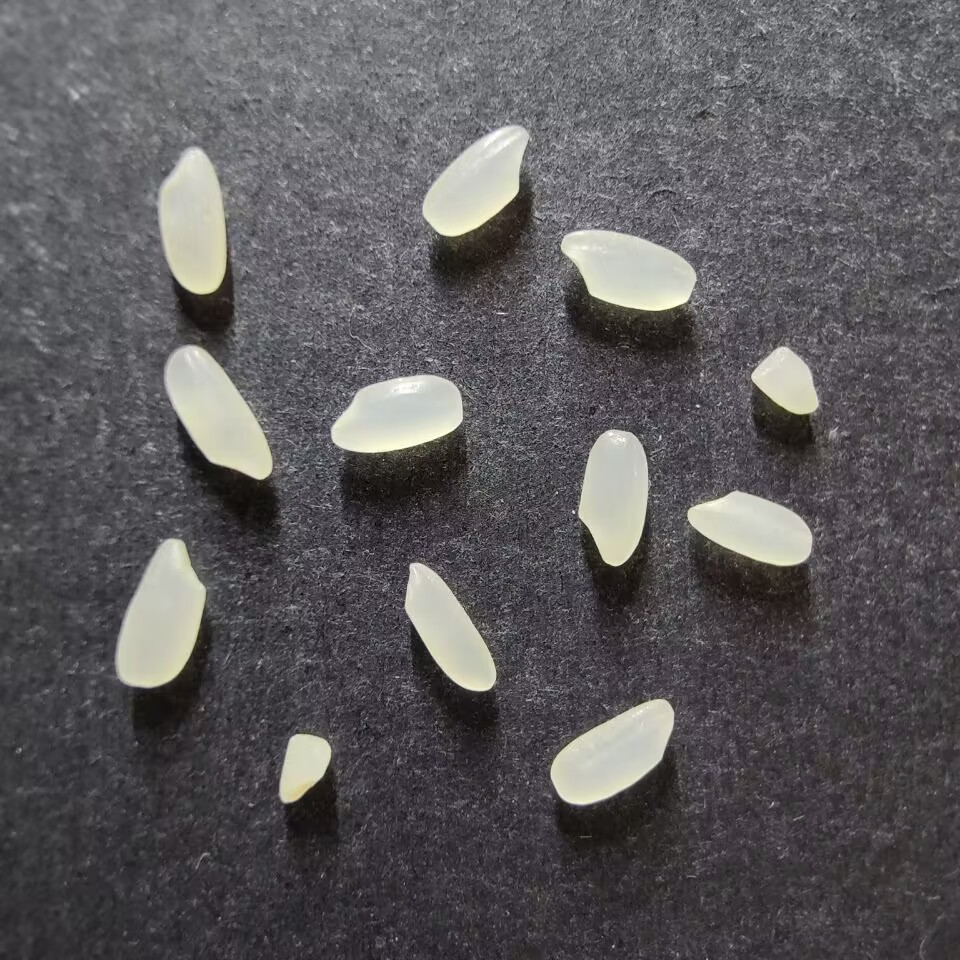broken: (749, 346, 819, 415), (278, 733, 331, 804)
rice: (164, 345, 272, 480), (114, 538, 206, 687), (549, 697, 675, 805), (421, 124, 529, 237), (403, 561, 495, 692), (560, 229, 696, 311), (330, 374, 463, 453), (157, 146, 227, 294), (577, 428, 648, 566), (686, 490, 813, 567)
